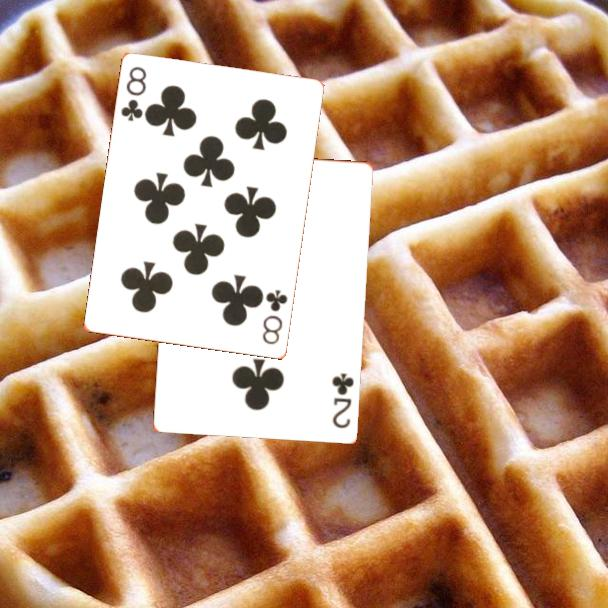c02: (328, 369, 356, 431)
c08: (259, 286, 291, 348), (118, 63, 150, 125)
